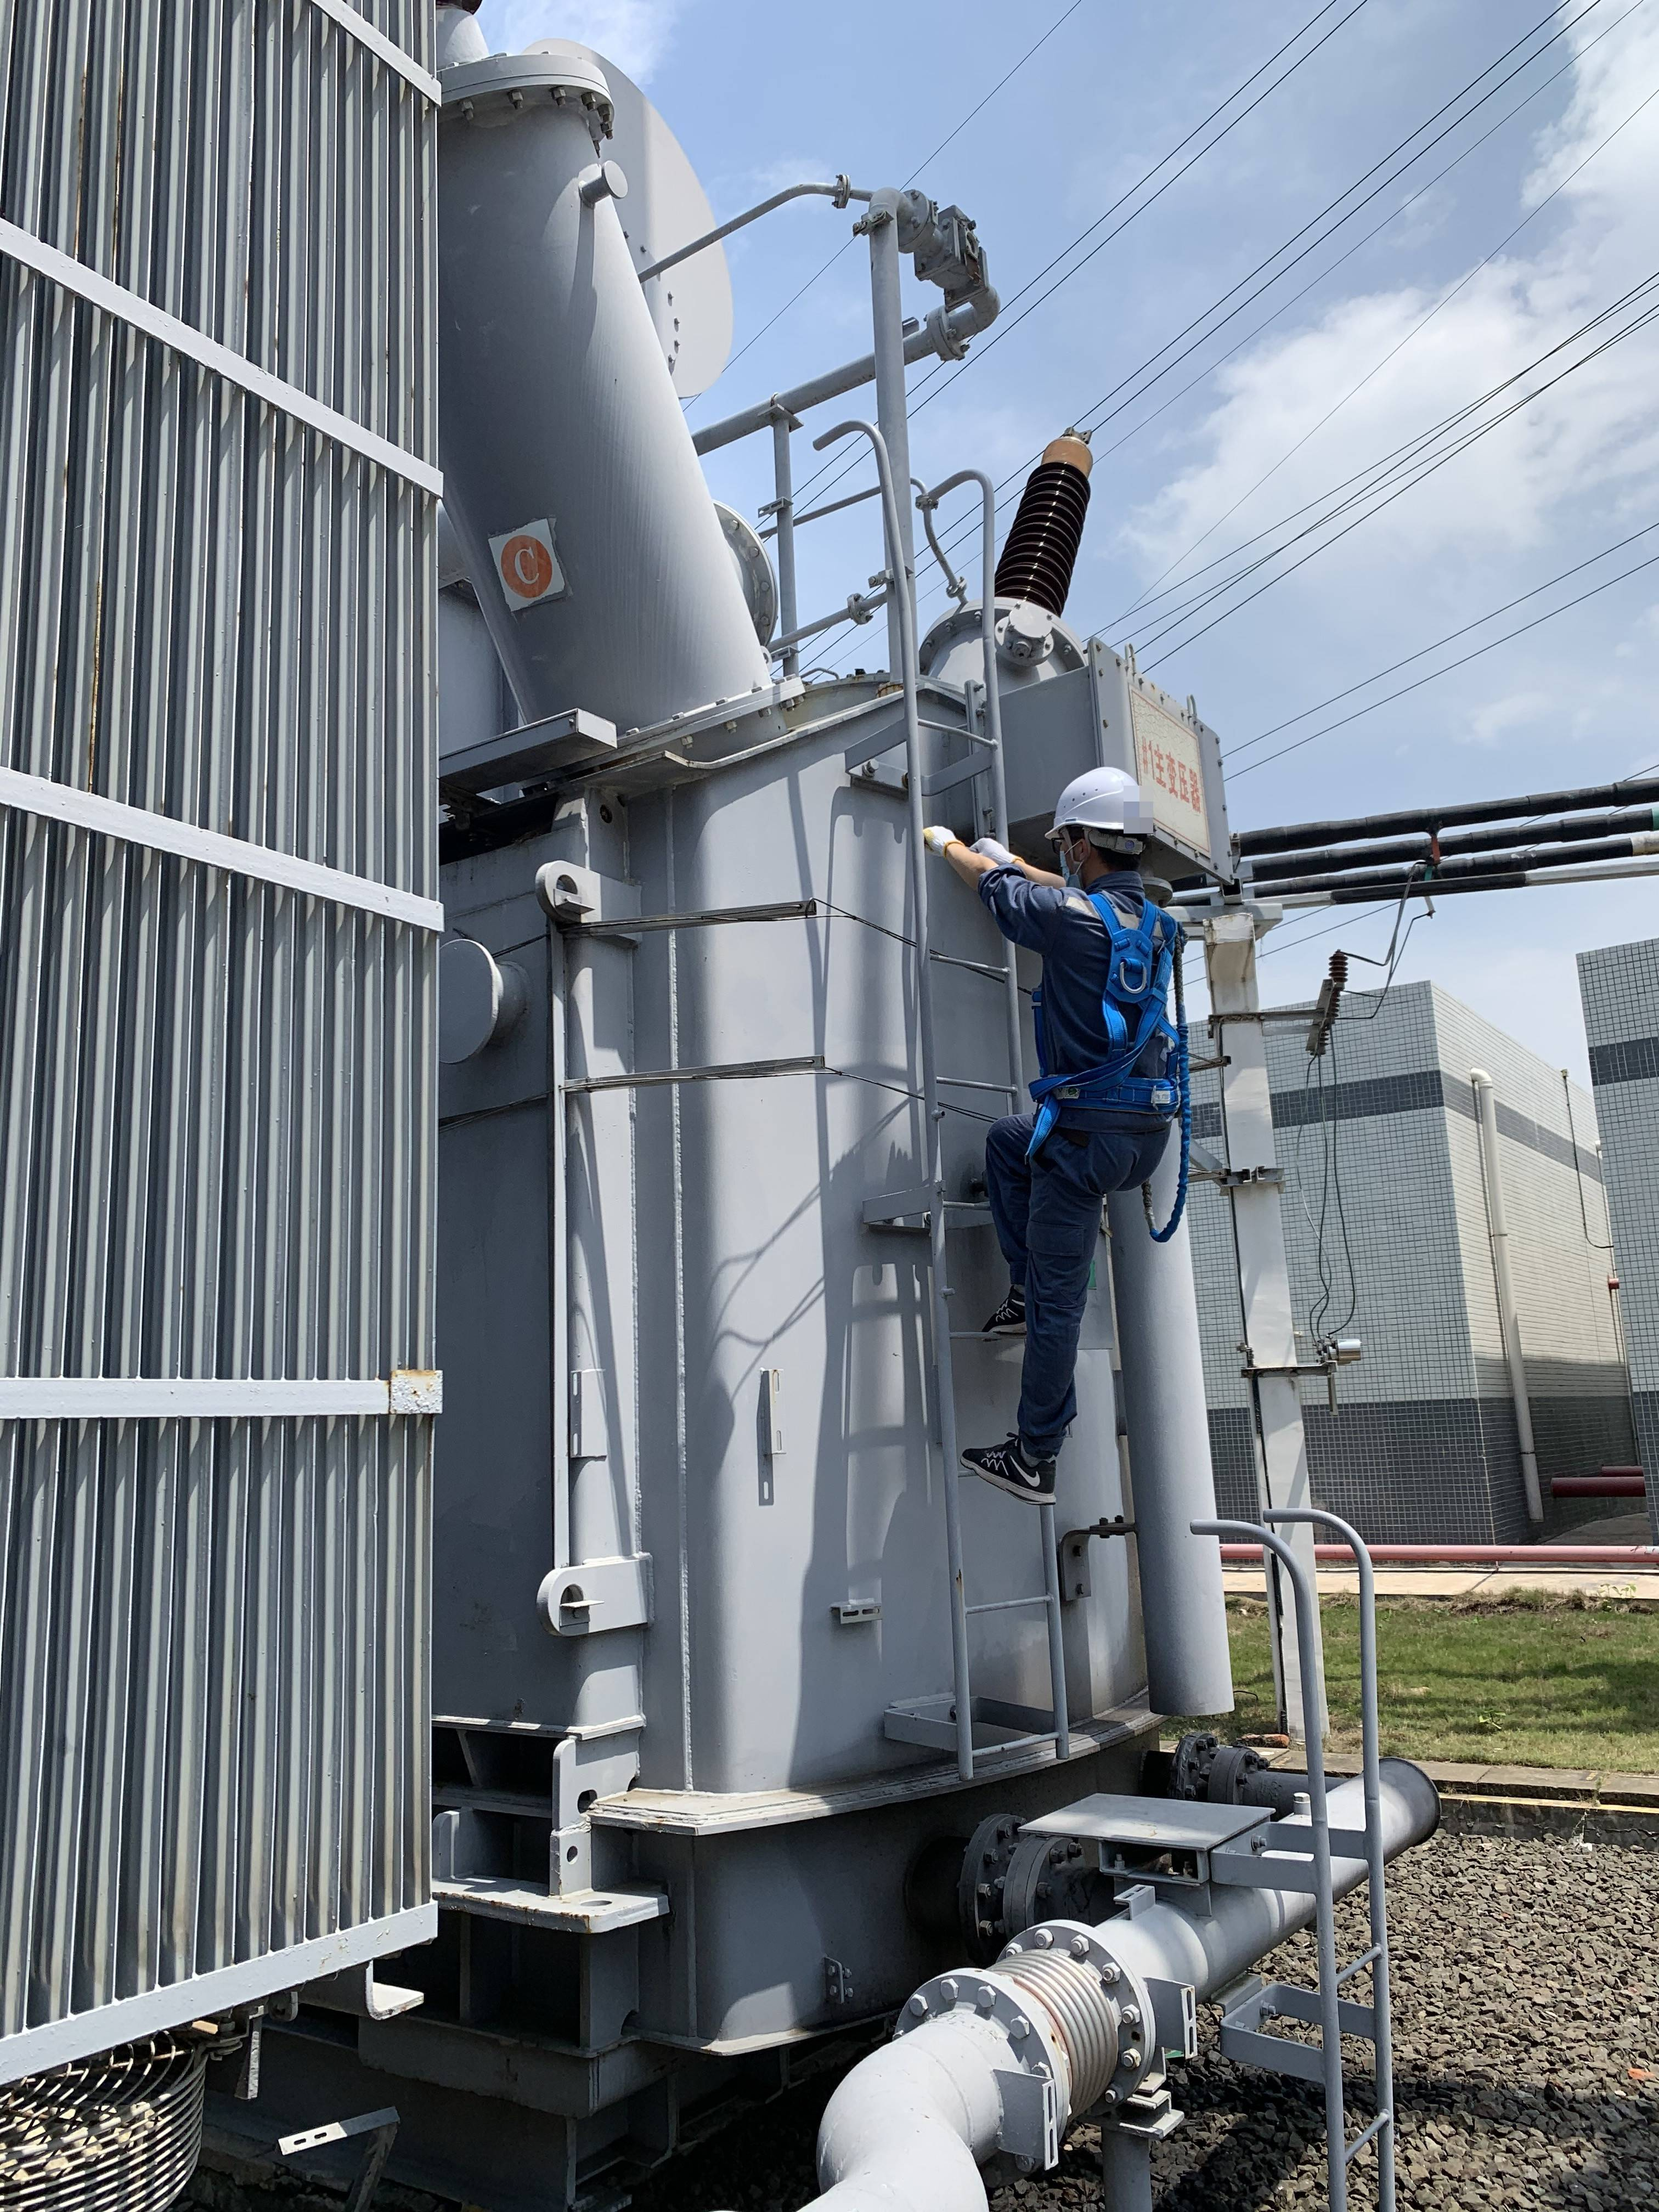downsuit: (971, 1129, 1190, 1453)
upsuit: (971, 871, 1215, 1111)
wrongtop: (948, 846, 1021, 902)
